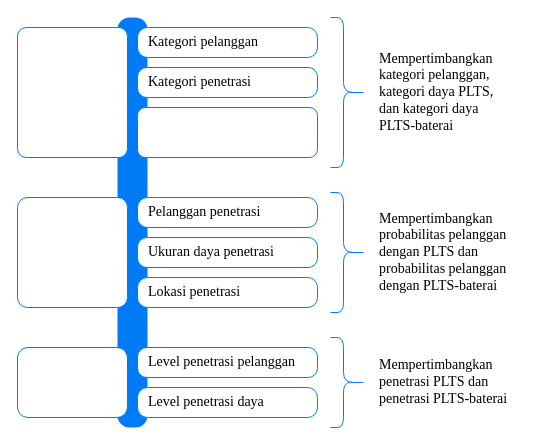
Image size: 545x445. Some labels were removed from this diagram. The centre of each missing label's shape, as x and y in pixels:
Kategori daya PLTS dan PLTS-baterai: (x=227, y=132)
Skenario kendali iterasi dari simulasi: (x=72, y=382)
Skenario penyebaran PLTS dan PLTS-baterai: (x=72, y=252)
Skenario states Markov Chain Monte Carlo: (x=72, y=92)
